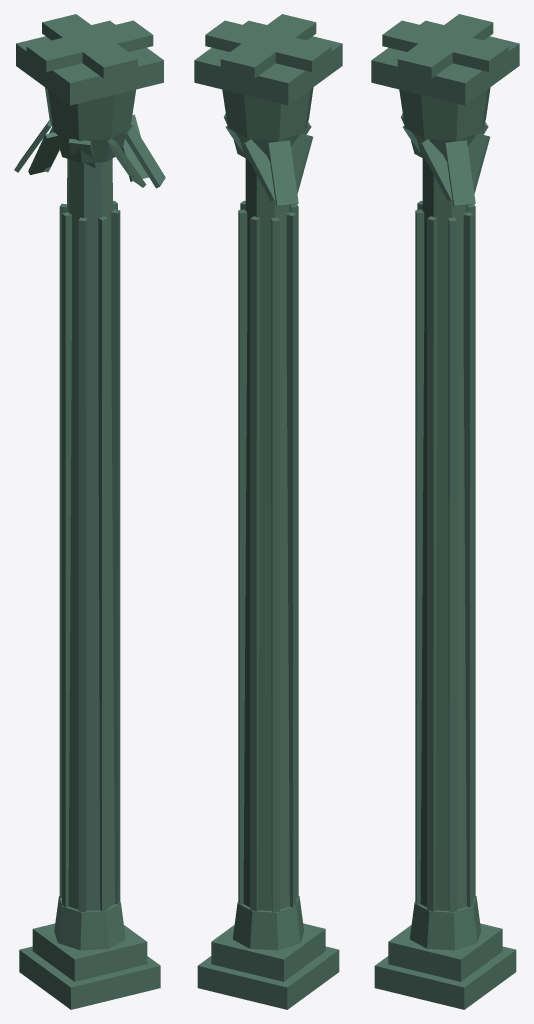
File: botanical-glasshouse-and-palm-house-botanical-glasshou-eeff268e__38539.glb
The picture shows the model from 3 angles, left to right: view 1: azimuth 30°, elevation 25°; view 2: azimuth 150°, elevation 25°; view 3: azimuth 330°, elevation 25°; orthographic projection.
Parts seen in each view (by area): view 1: botanical-glasshouse-and-palm-house-cast-iron-column; view 2: botanical-glasshouse-and-palm-house-cast-iron-column; view 3: botanical-glasshouse-and-palm-house-cast-iron-column.
Boxes of the visible parts, box(x1,y1,x2,y2) form: botanical-glasshouse-and-palm-house-cast-iron-column: box(14, 14, 165, 1009); botanical-glasshouse-and-palm-house-cast-iron-column: box(194, 14, 342, 1009); botanical-glasshouse-and-palm-house-cast-iron-column: box(371, 14, 519, 1009).
Size of the model in its own units: 0.4999 by 4.2 by 0.4999.
